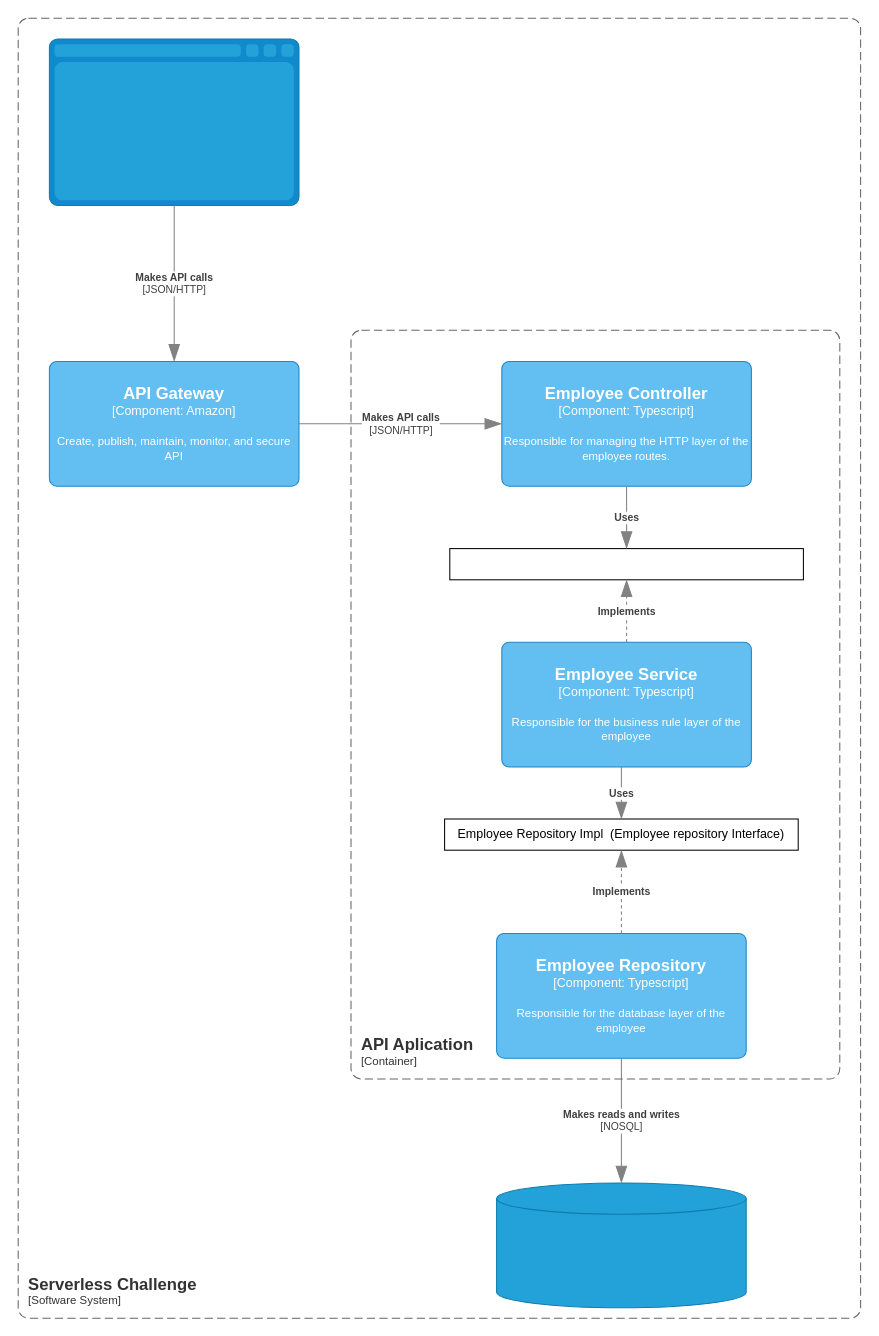
Some shapes in this 879 by 1336 pixel diagram are drawn without their labels. Each missing label, with the centre of its shape:
Database [Container: Dynamodb] Employee database: (621,1245)
Employee Service Impl (Employee service Interface): (626,564)
Web Application [Container: Angular] User Interface: (173,121)
